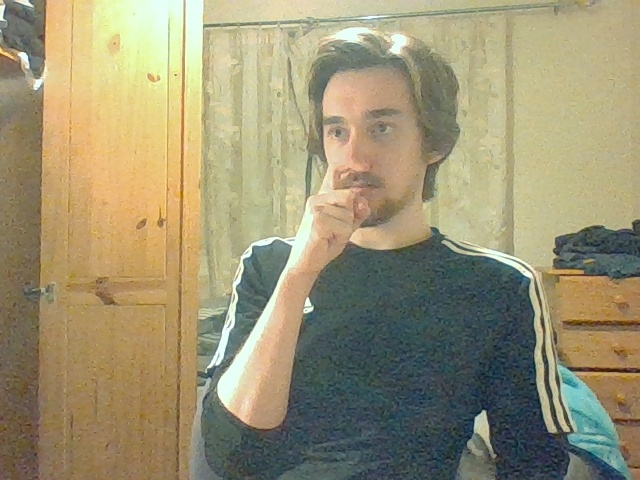sister: (305, 156, 372, 256)
